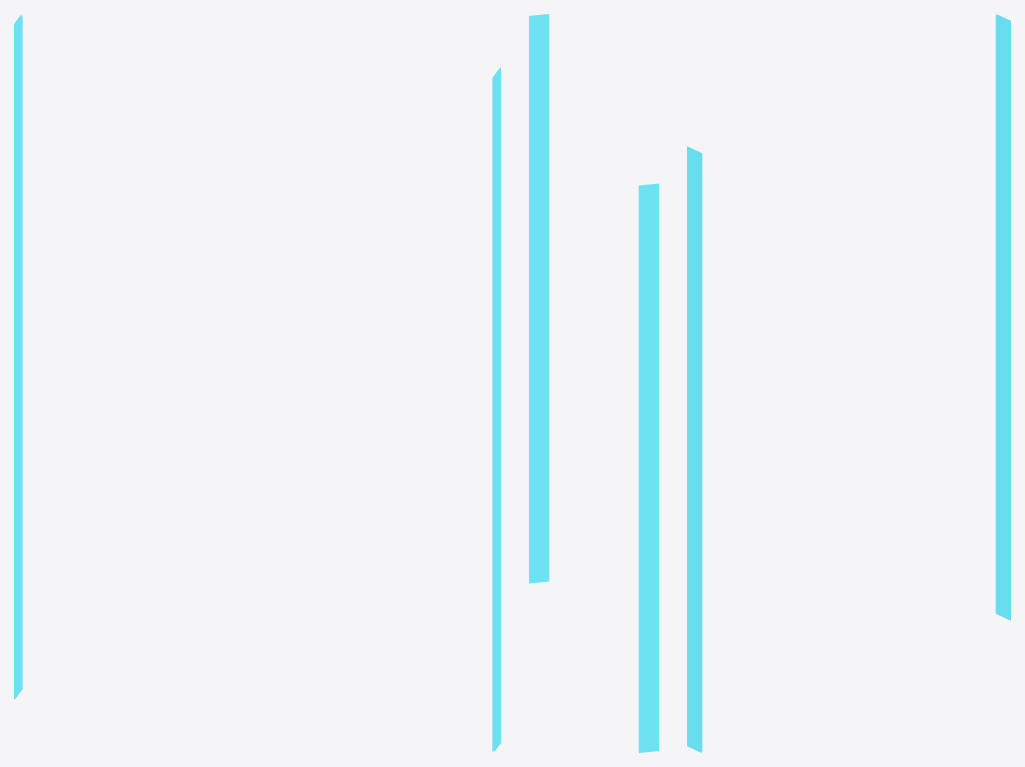
File: laser_console02.glb
The picture shows the model from 3 angles, left to right: view 1: azimuth 30°, elevation 25°; view 2: azimuth 150°, elevation 25°; view 3: azimuth 270°, elevation 25°; orthographic projection. The views are drawn at different scales.
Visible parts, largest first — view 1: Object_360.001; view 2: Object_360.001; view 3: Object_360.001.
Boxes of the visible parts, x1=… form: Object_360.001: x1=14, y1=14, x2=500, y2=752; Object_360.001: x1=529, y1=14, x2=658, y2=752; Object_360.001: x1=687, y1=14, x2=1010, y2=752.
Size of the model in its own units: 0.8167 by 1.64 by 0.8044.
